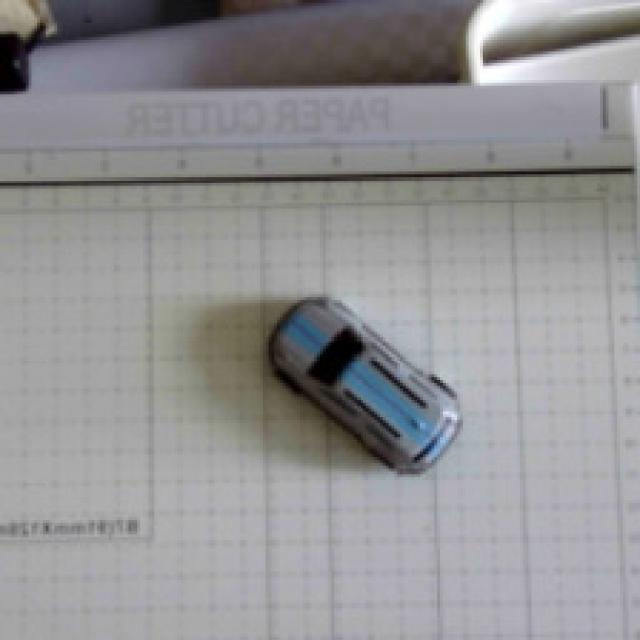Grey Car: (252, 271, 480, 492)
